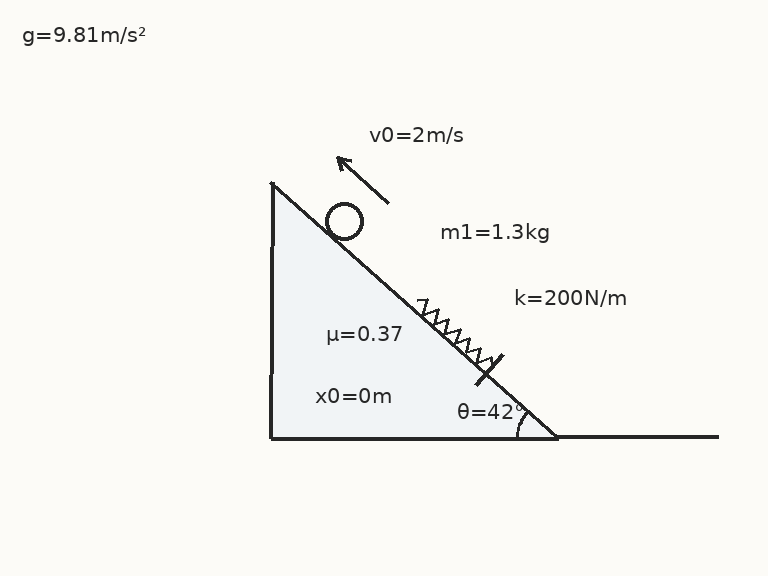ball: (323, 200, 365, 242)
ramp: (269, 178, 559, 440)
spring: (415, 298, 493, 369)
